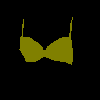reggiseno: (19, 16, 73, 66)
